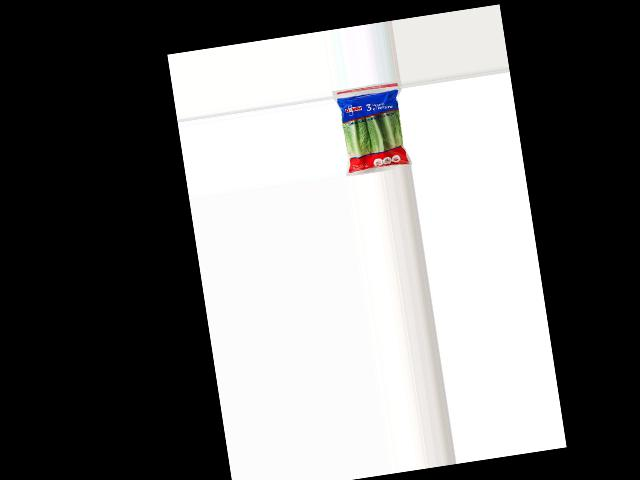lettuce: (335, 87, 410, 176)
